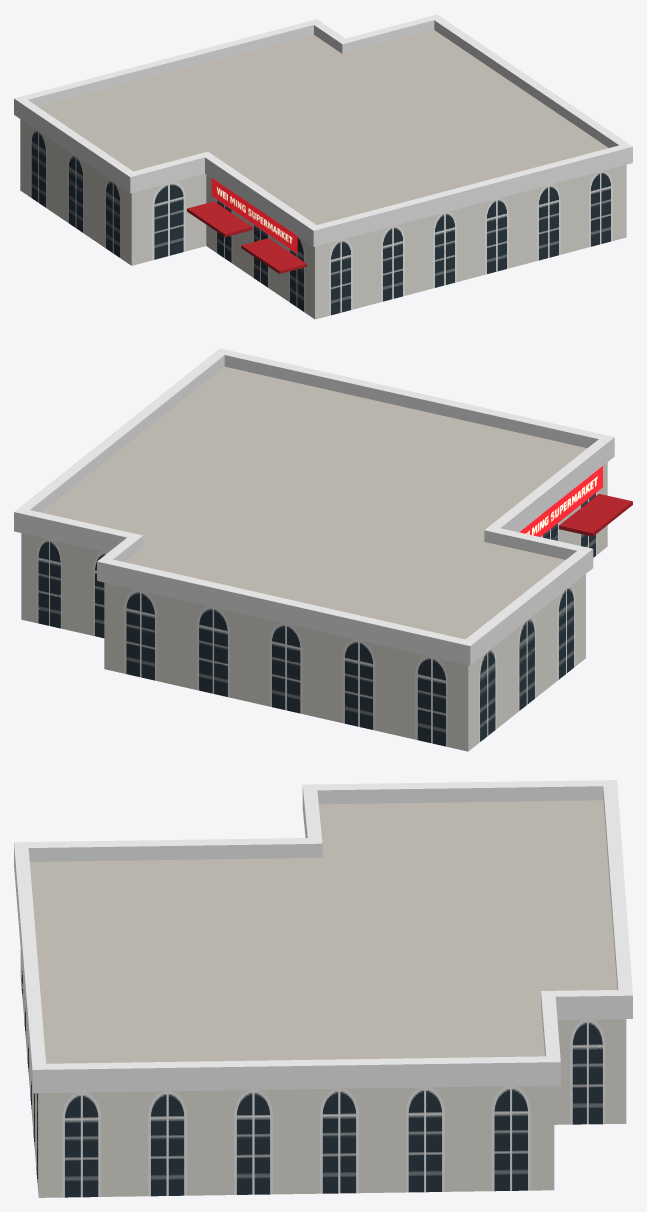
File: weiming.glb
3 views of the same model, one above another, from view 1: azimuth 30°, elevation 25°; view 2: azimuth 150°, elevation 25°; view 3: azimuth 270°, elevation 25° (orthographic). The views are drawn at different scales.
Visible parts, largest first — view 1: weiming_lod0; view 2: weiming_lod0; view 3: weiming_lod0.
Boxes of the visible parts, x1,y1,x2,y2 form: weiming_lod0: [14, 14, 632, 319]; weiming_lod0: [14, 348, 632, 751]; weiming_lod0: [14, 780, 632, 1197].
Size of what is drawn, in the model's own units: 26.62 by 5.6 by 24.02.
Materials: 5 (2 with a texture image).
